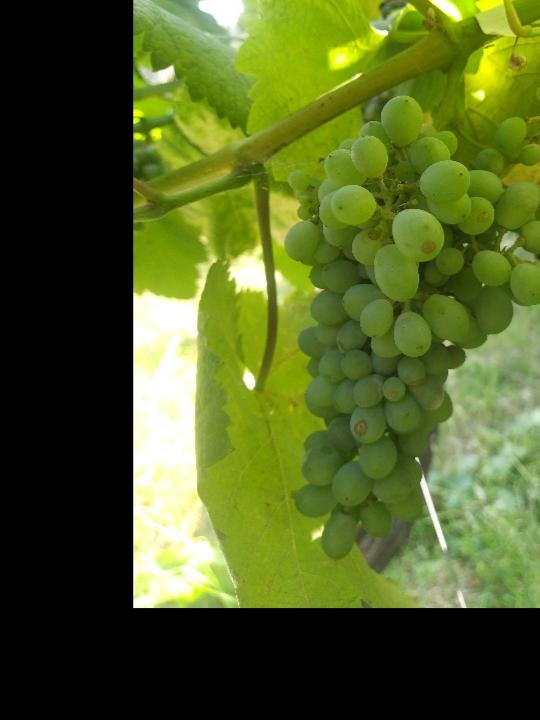grape: (279, 79, 540, 567)
